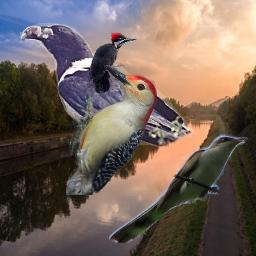Crow: (20, 23, 197, 189)
Cuckoo: (109, 134, 248, 243)
Woodpecker: (66, 65, 157, 195), (86, 32, 138, 93)
